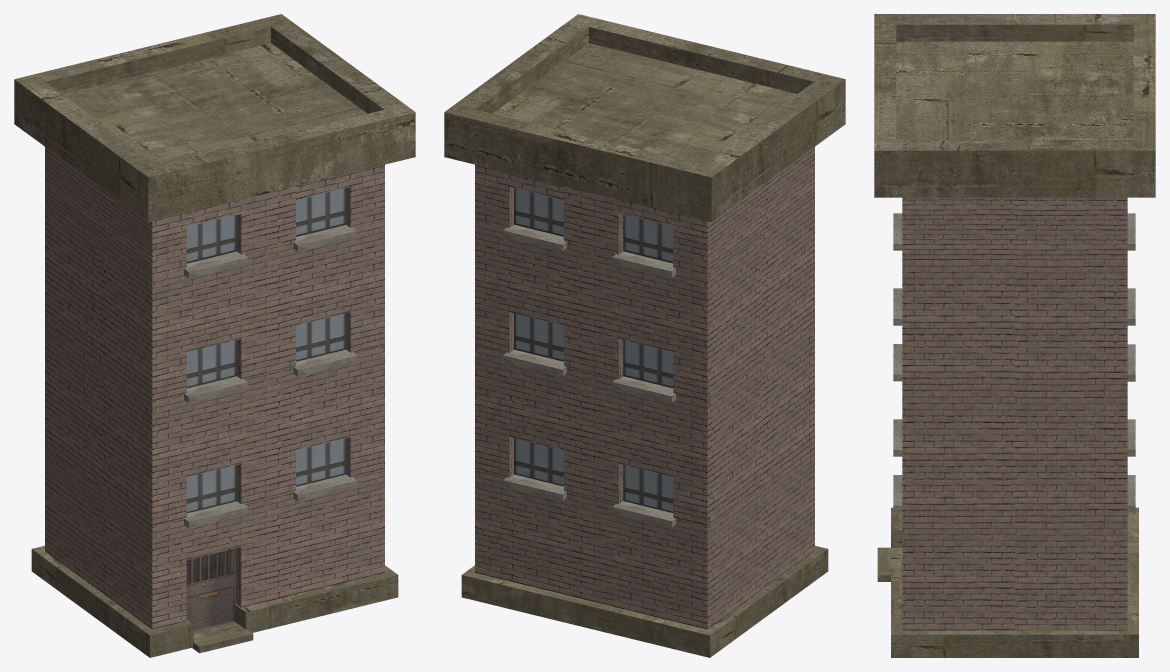
File: Building04B1.fbx
3 renders of one model, left to right at view 1: azimuth 30°, elevation 25°; view 2: azimuth 150°, elevation 25°; view 3: azimuth 270°, elevation 25°, orthographic. The views are drawn at different scales.
Visible parts, largest first — view 1: UB; view 2: UB; view 3: UB.
Boxes of the visible parts, x1=… form: UB: x1=14, y1=14, x2=415, y2=657; UB: x1=444, y1=14, x2=845, y2=657; UB: x1=874, y1=14, x2=1155, y2=657.
Bounding box in the file's own units: 5.15 × 9.01 × 4.48.
